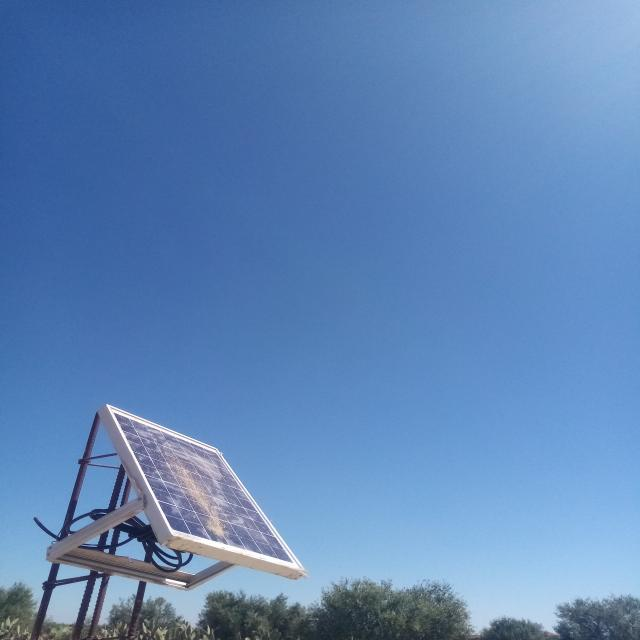faulty: (107, 404, 305, 572)
